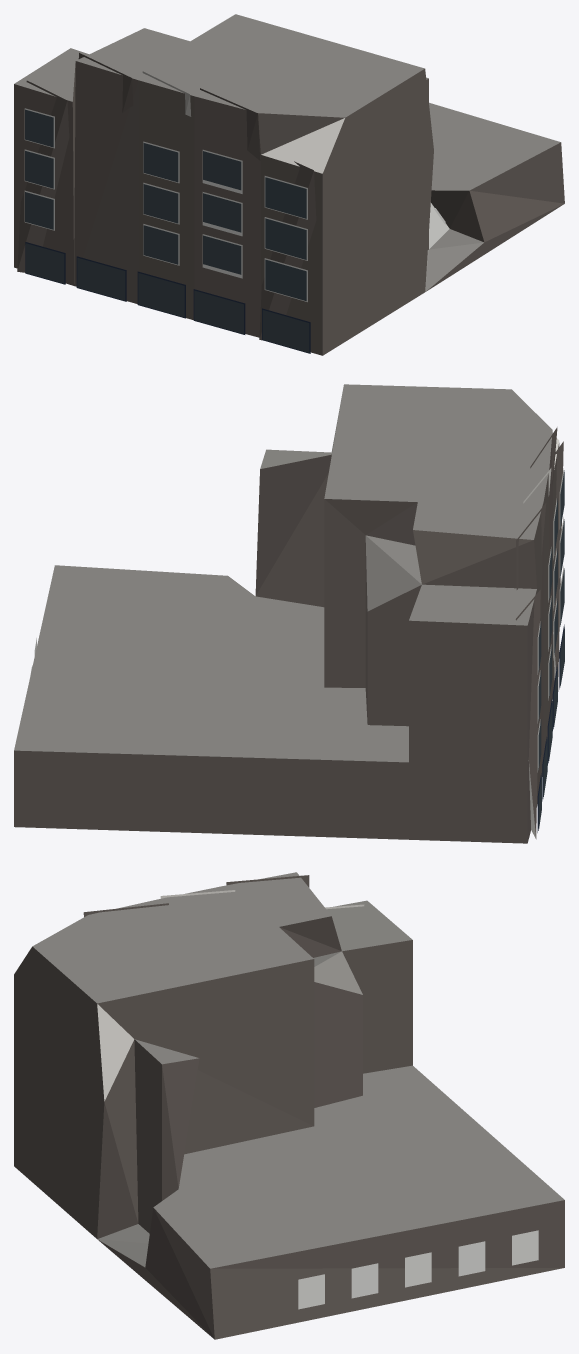
The model's file is oba-spaarndammerbuurt.lod2.glb.
3 renders of one model, top to bottom at view 1: azimuth 30°, elevation 25°; view 2: azimuth 150°, elevation 25°; view 3: azimuth 270°, elevation 25°, orthographic. The views are drawn at different scales.
Visible parts, largest first — view 1: lod2; view 2: lod2; view 3: lod2.
Part boxes in pixels (left/top/right/bottom): lod2: left=14, top=14, right=564, bottom=355; lod2: left=14, top=384, right=564, bottom=843; lod2: left=14, top=872, right=564, bottom=1339.
Bounding box in the file's own units: 35.42 × 15.91 × 33.4.
